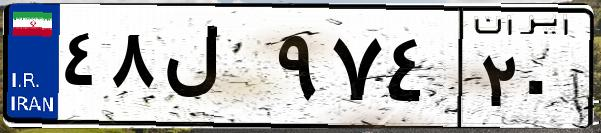0: (525, 38, 570, 115)
2: (475, 38, 525, 113)
4: (385, 28, 445, 110), (57, 26, 110, 100)
7: (330, 28, 385, 110)
8: (110, 28, 158, 98)
9: (270, 28, 330, 110)
ل: (158, 20, 270, 120)
